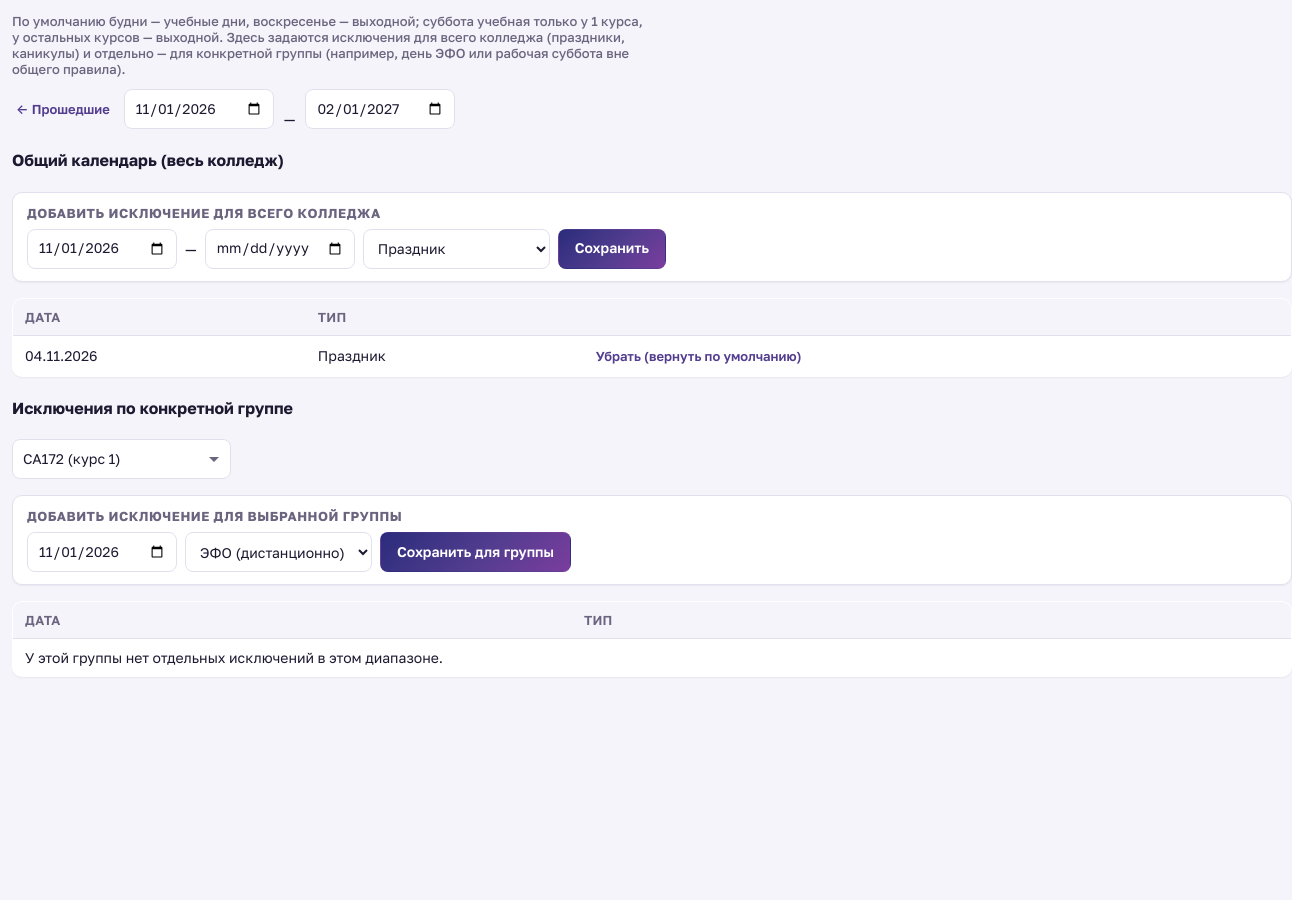
Test case: CalendarTab — общий календарь › ошибка на одном из дней прерывает сохранение и показывается
This screenshot has width=1292, height=900.
Expected: the text "04.11.2026" is shown, [12,335,306,376]
Type "2026-10-30" into the date field named "Дата (начало диапазона)".
click(102, 248); type("2026-10-30")  # box [27,228,177,268]
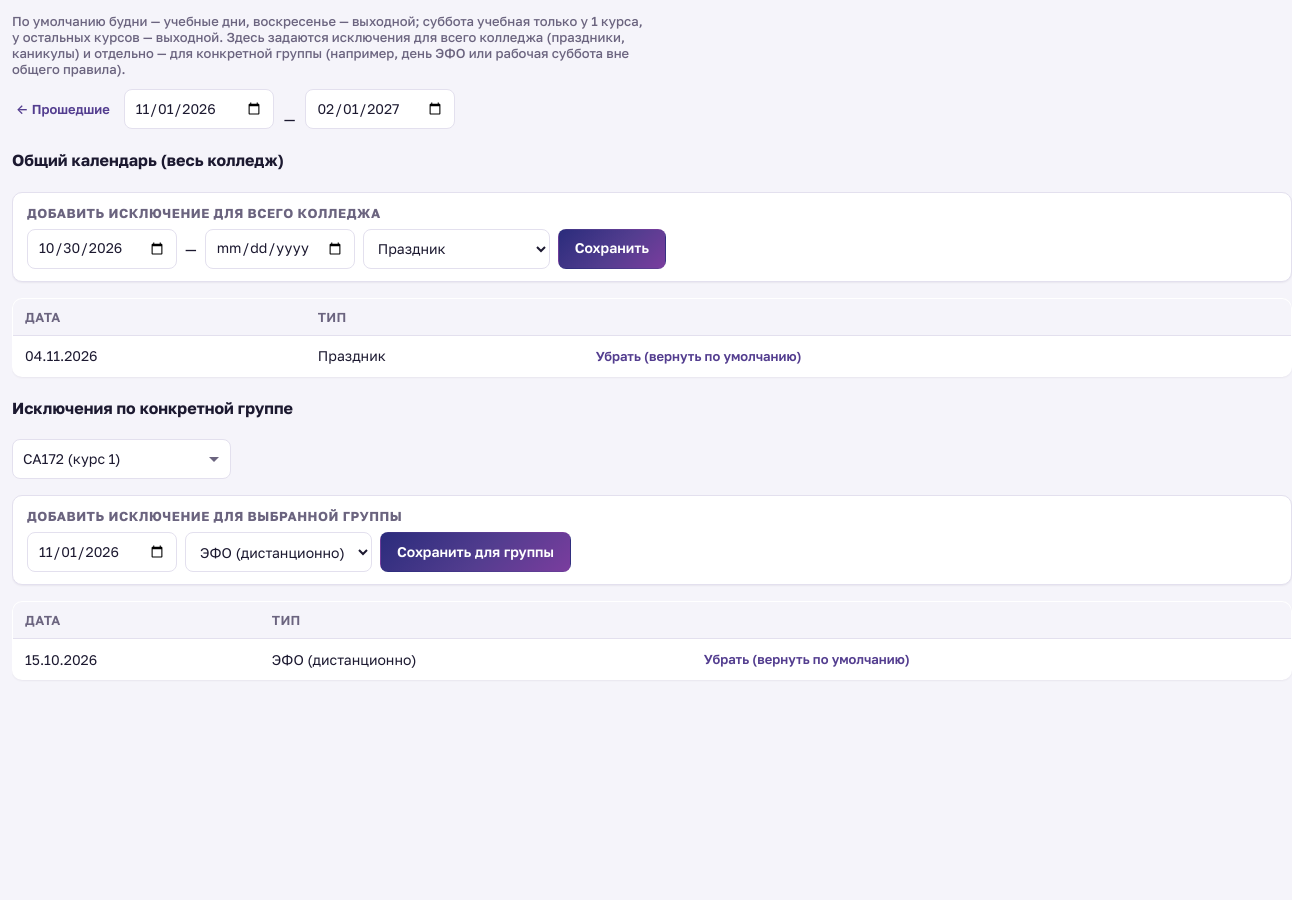
Type "2026-11-02" into the date field titled "Конец диапазона".
click(280, 248); type("2026-11-02")  # box [205,228,355,268]
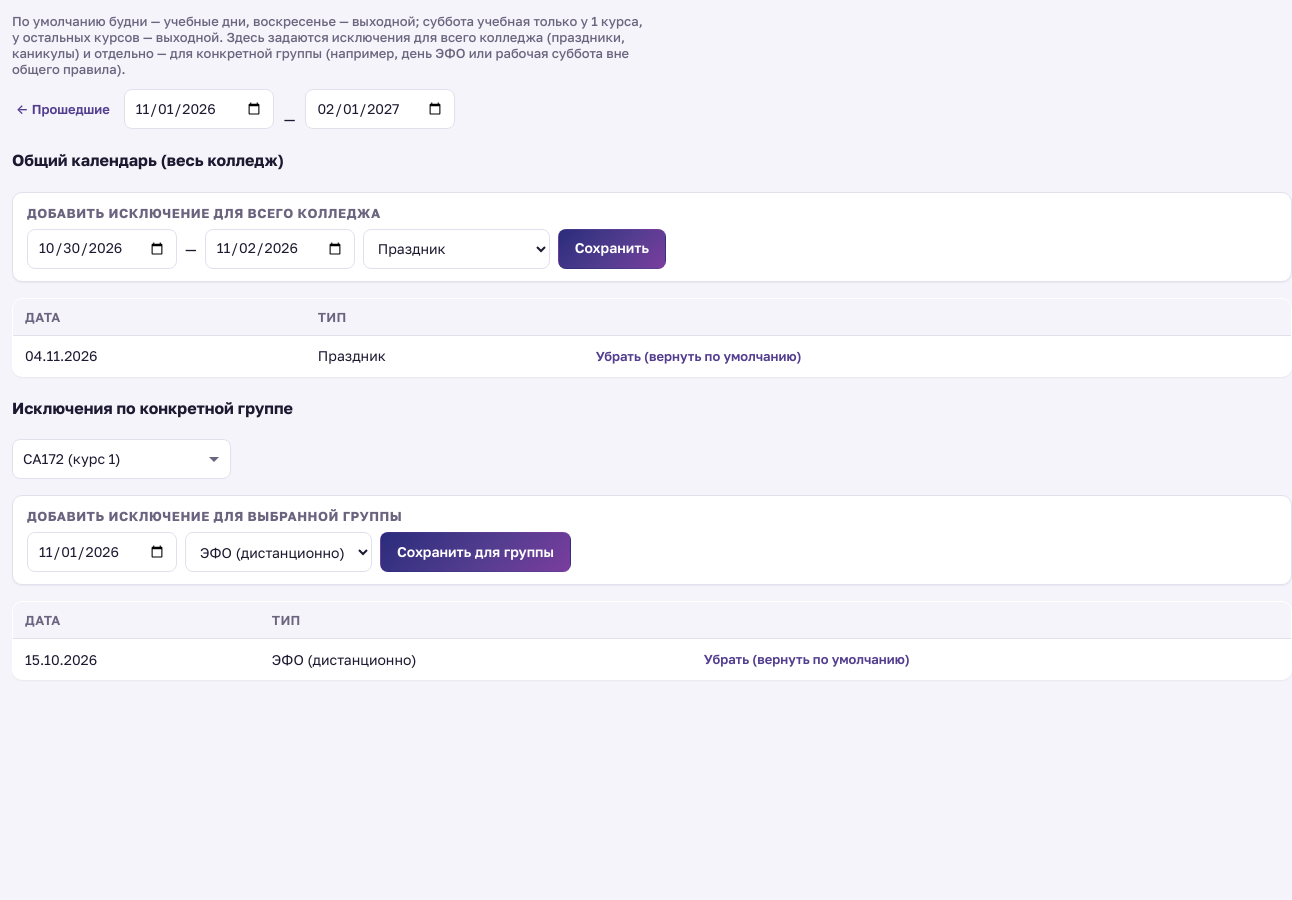
Click the button "Сохранить".
click(612, 248)  # box [558,228,666,268]
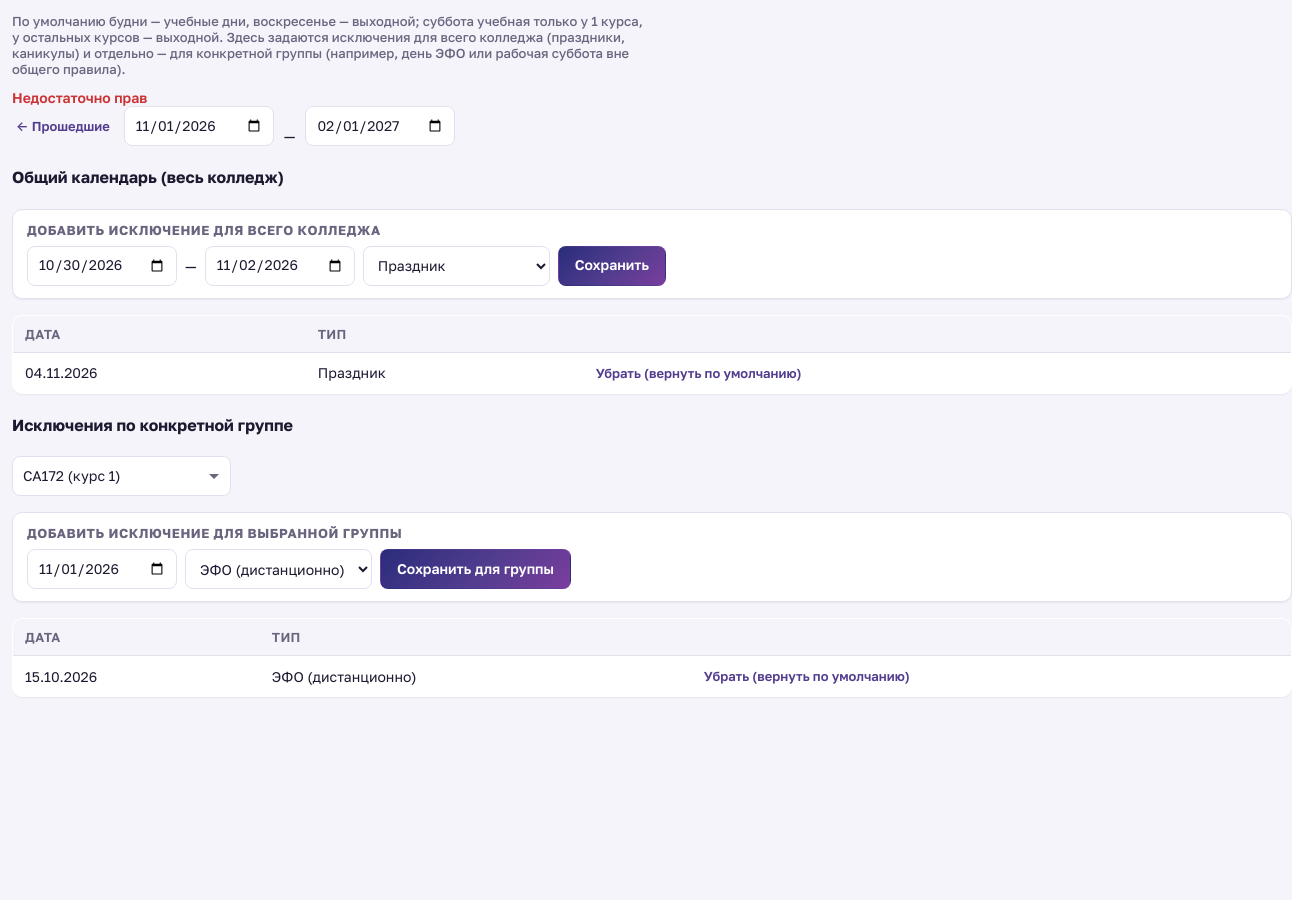
Result: the text "Недостаточно прав" is shown at [12,89,147,106]
